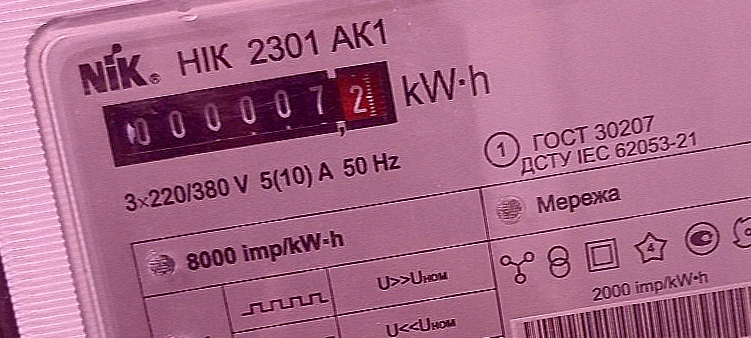0: (197, 95, 226, 136), (128, 110, 155, 148), (268, 82, 294, 121), (235, 90, 260, 129), (164, 103, 189, 141)
2: (345, 78, 371, 117)
7: (304, 78, 330, 119)
screen: (95, 50, 407, 174)
